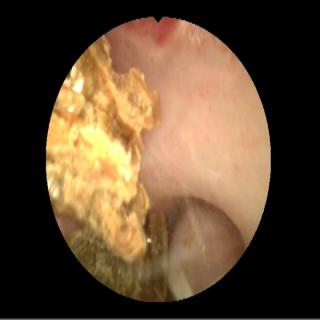stone: (48, 37, 168, 298)
tissue: (118, 23, 265, 290)
